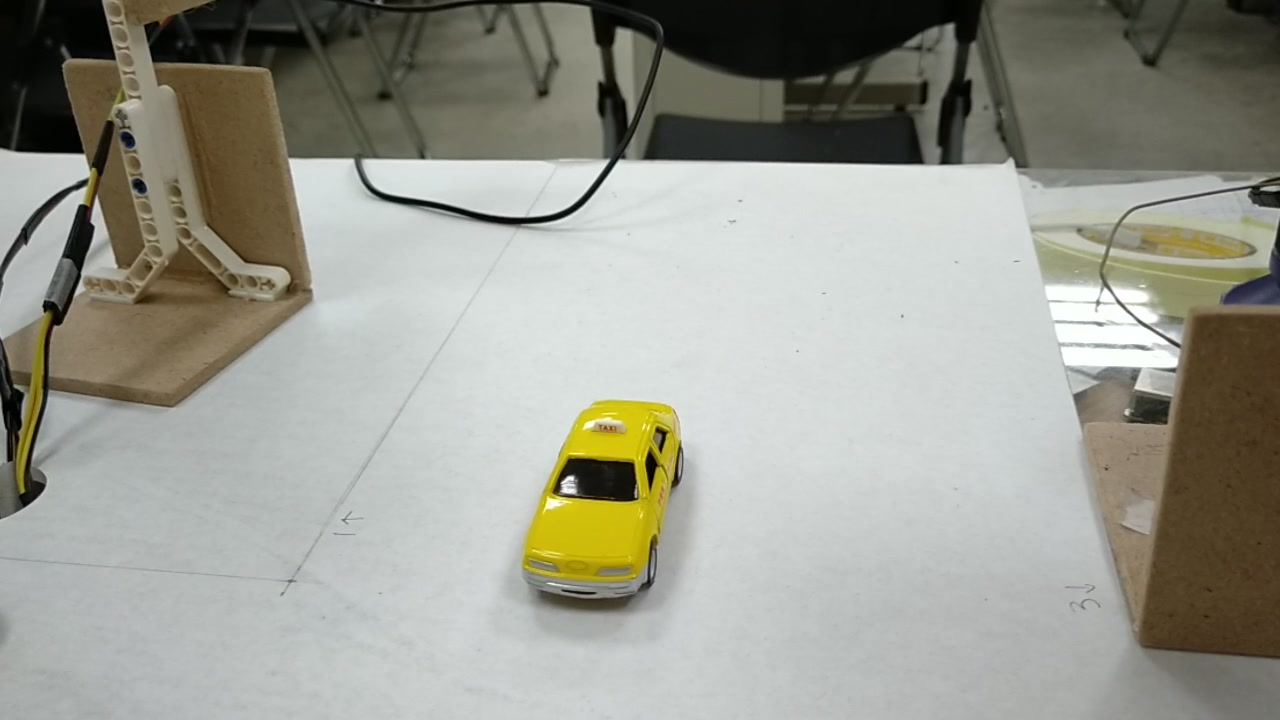car: (522, 402, 685, 606)
